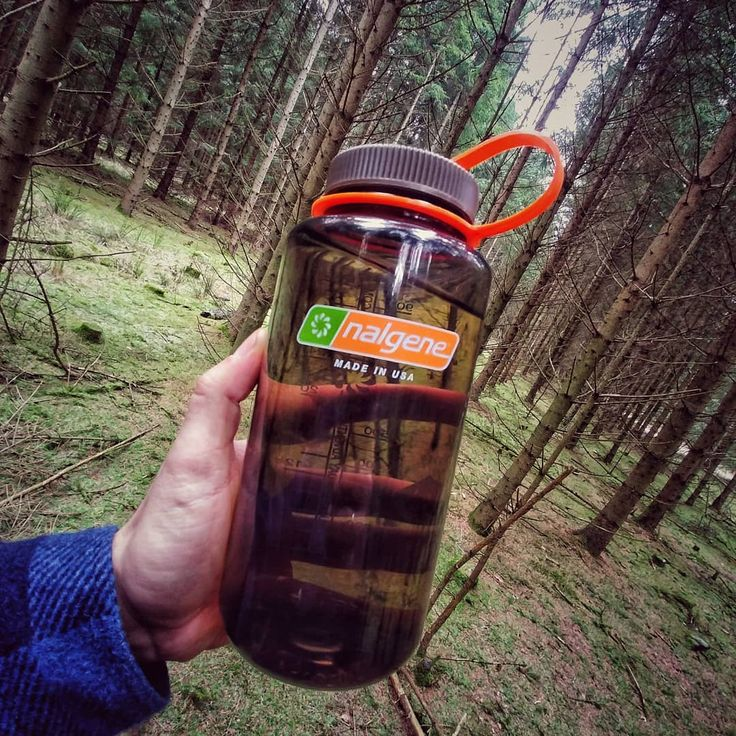bottle: (218, 131, 568, 693)
